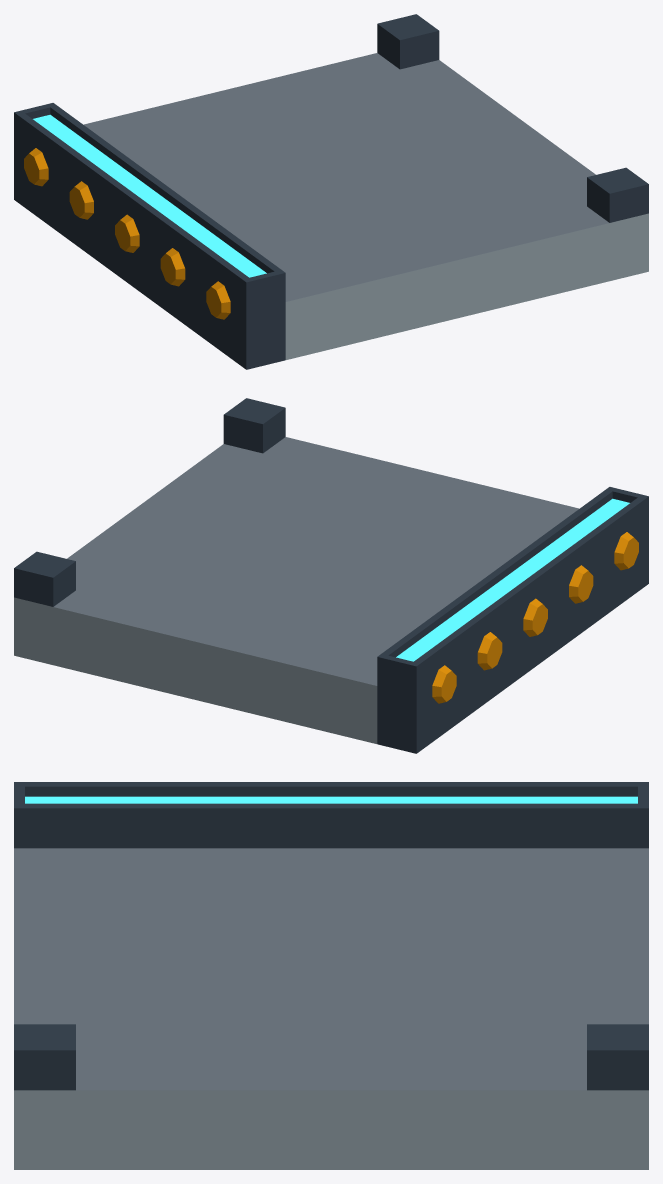
Rendered from SM_Belt_T.fbx.
3 renders of one model, top to bottom at view 1: azimuth 30°, elevation 25°; view 2: azimuth 150°, elevation 25°; view 3: azimuth 270°, elevation 25°, orthographic. The views are drawn at different scales.
Visible parts, largest first — view 1: Belt_T; view 2: Belt_T; view 3: Belt_T.
Boxes of the visible parts, x1=… form: Belt_T: x1=14, y1=14, x2=648, y2=369; Belt_T: x1=14, y1=398, x2=648, y2=753; Belt_T: x1=14, y1=782, x2=648, y2=1169.
Bounding box in the file's own units: 102 × 20.77 × 100.
1 material, 1 textured.
